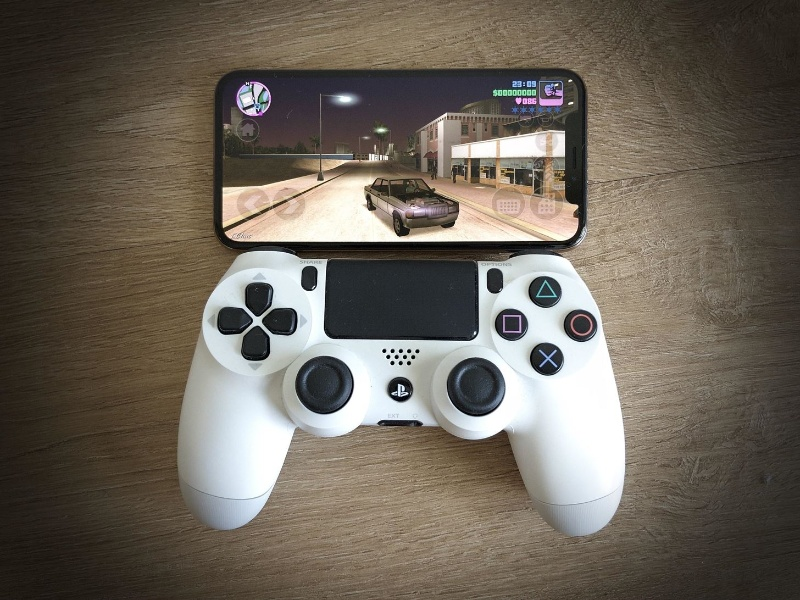ps4 joystick: (173, 241, 630, 545)
